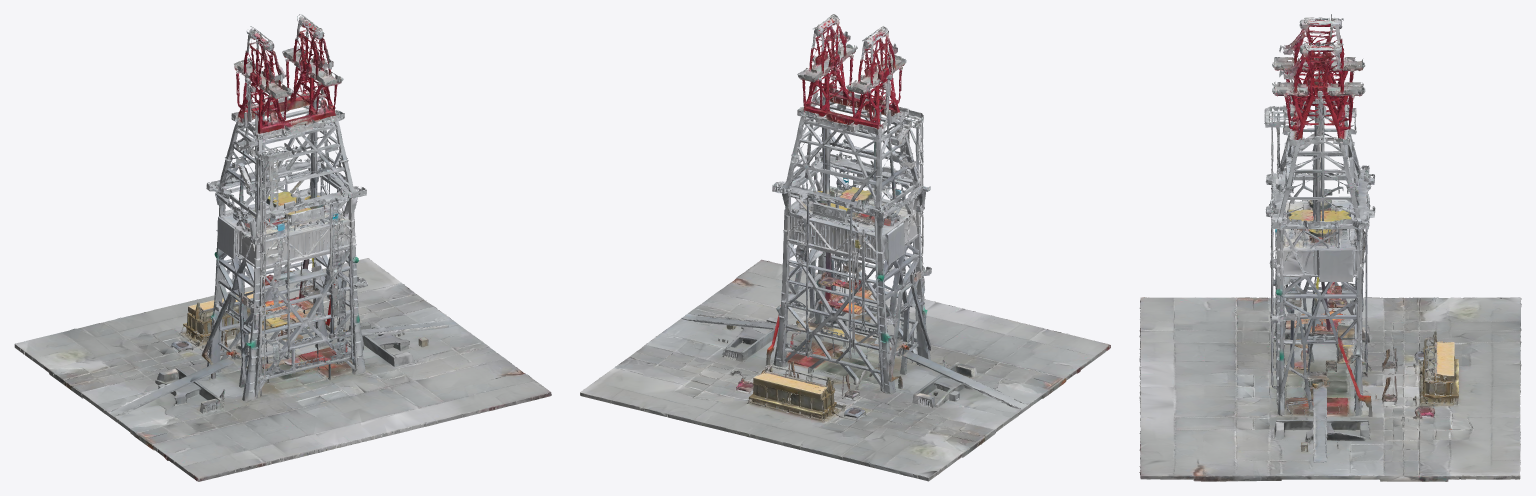
File: derrick.glb
3 views of the same model, side by side, from view 1: azimuth 30°, elevation 25°; view 2: azimuth 150°, elevation 25°; view 3: azimuth 270°, elevation 25° (orthographic). The views are drawn at different scales.
Parts seen in each view (by area): view 1: model; view 2: model; view 3: model.
Part boxes in pixels (x1,y1,x2,y2): model: (14, 14, 551, 481); model: (580, 14, 1110, 481); model: (1139, 14, 1521, 481).
Size of the model in its own units: 1.9 by 1.8 by 1.72.
1 material, 1 textured.
